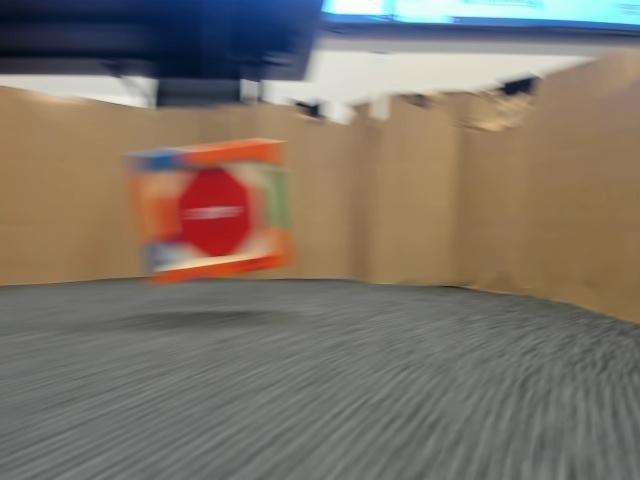Stop: (173, 174, 243, 261)
